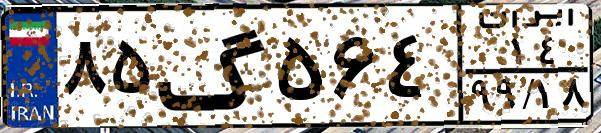1: (508, 27, 537, 80), (535, 70, 560, 125)
4: (385, 28, 445, 110), (537, 27, 568, 80)
5: (270, 28, 330, 110), (110, 28, 156, 98)
6: (330, 28, 385, 110)
8: (57, 26, 110, 100), (560, 70, 590, 125)
9: (470, 70, 495, 125), (495, 70, 520, 125)
گ: (156, 12, 270, 120)
